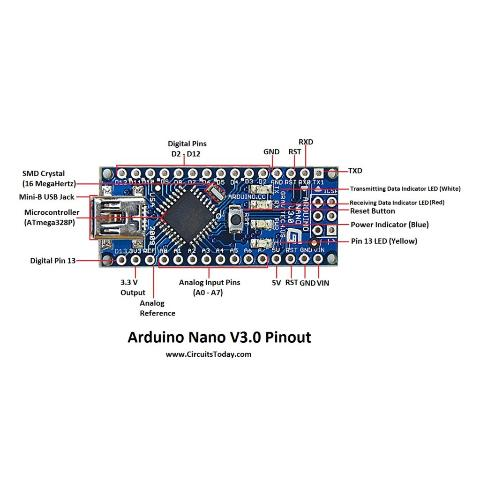Arduino-Nano: (87, 162, 343, 269)
